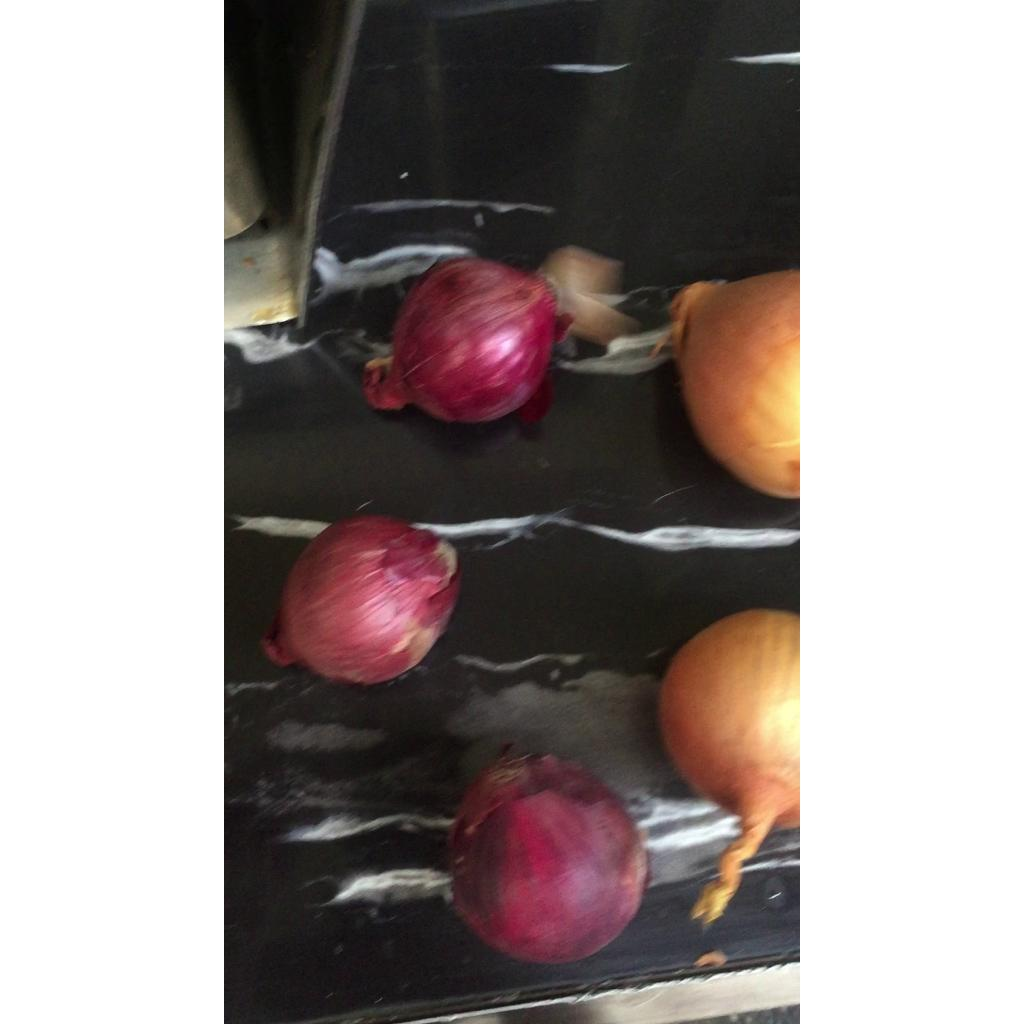Onion: (659, 611, 800, 927), (449, 756, 648, 965), (259, 516, 460, 685), (362, 258, 557, 422), (671, 270, 800, 498)
